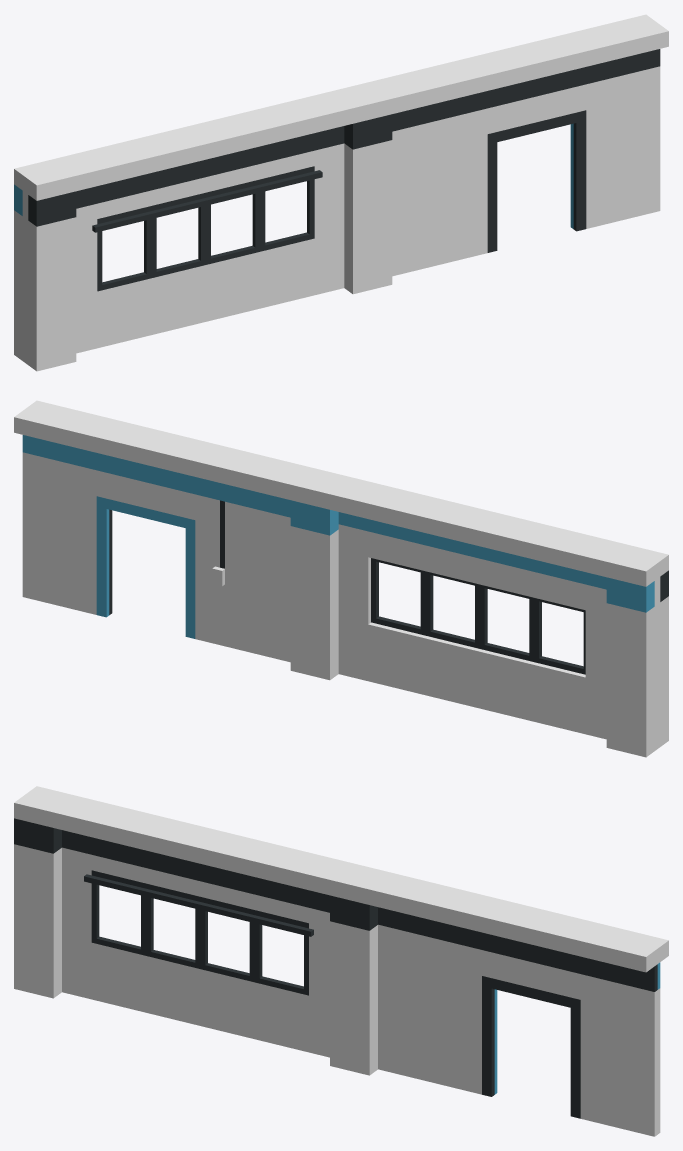
The model's file is inside_classroom_divide_outside_corridor.obj.
3 views of the same model, one above another, from view 1: azimuth 30°, elevation 25°; view 2: azimuth 150°, elevation 25°; view 3: azimuth 330°, elevation 25° (orthographic).
Size of the model in its own units: 12.8 by 3.6 by 0.8.
1 material, 1 textured.
